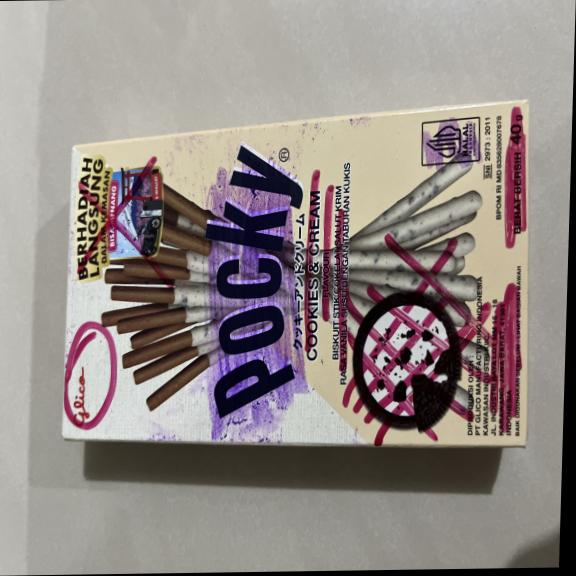Kertas: (61, 107, 533, 444)
